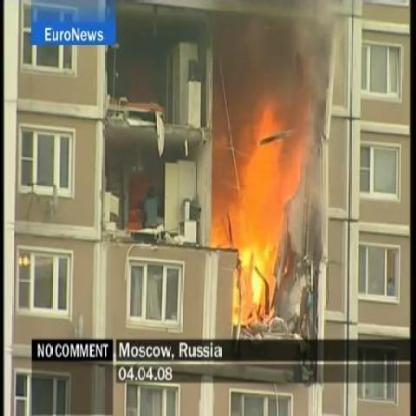fire: (238, 101, 284, 321)
